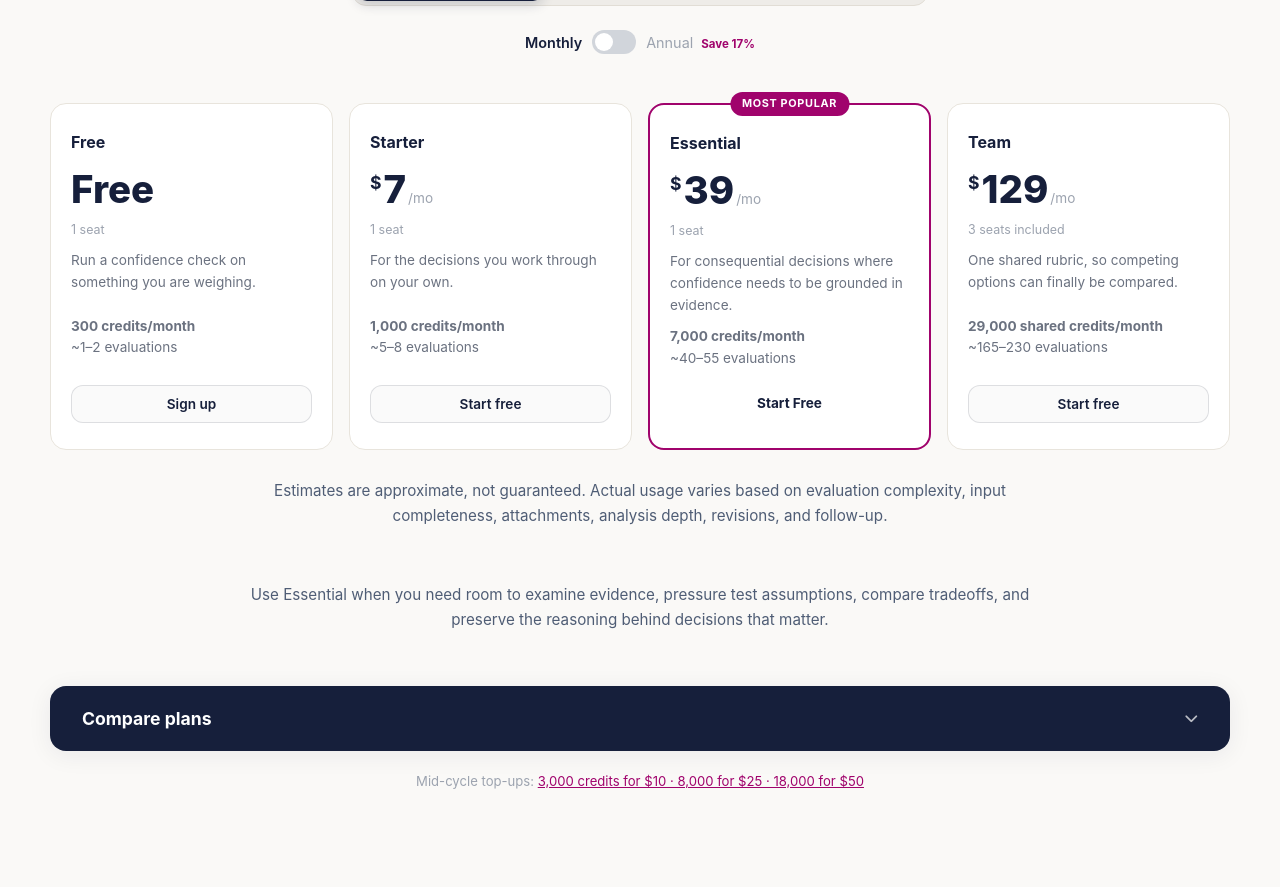
Test: PricingVariantB › includes approximate project value in the plan comparison
(page scrolled)
Click the button "Compare plans" at (147, 719), box 50,686 -> 1230,751
(page scrolled)
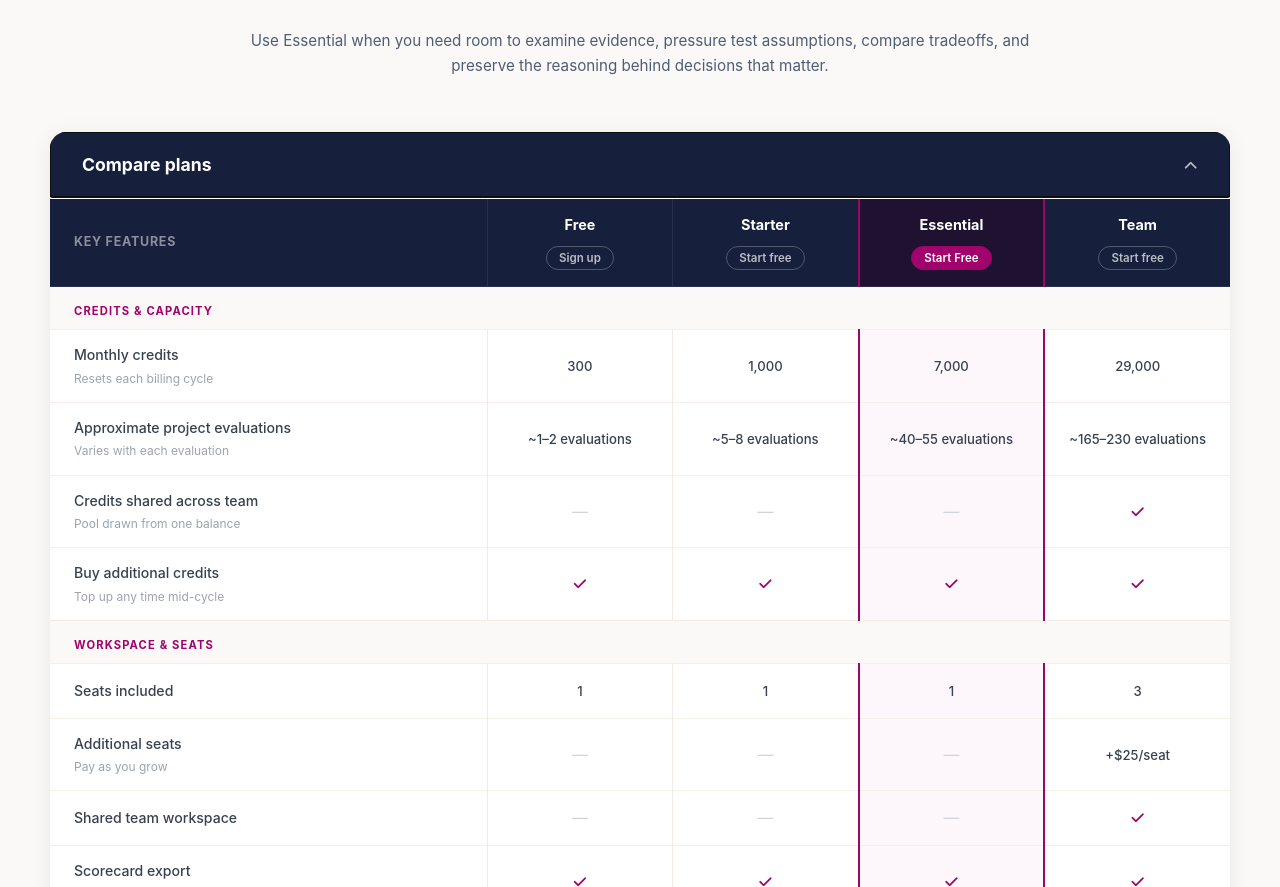
Result: the text "Approximate project evaluations" shows "~1–2 evaluations" at 528,431 -> 632,447
Result: the text "Approximate project evaluations" shows "~5–8 evaluations" at 712,431 -> 819,447
Result: the text "Approximate project evaluations" shows "~40–55 evaluations" at 890,431 -> 1013,447
